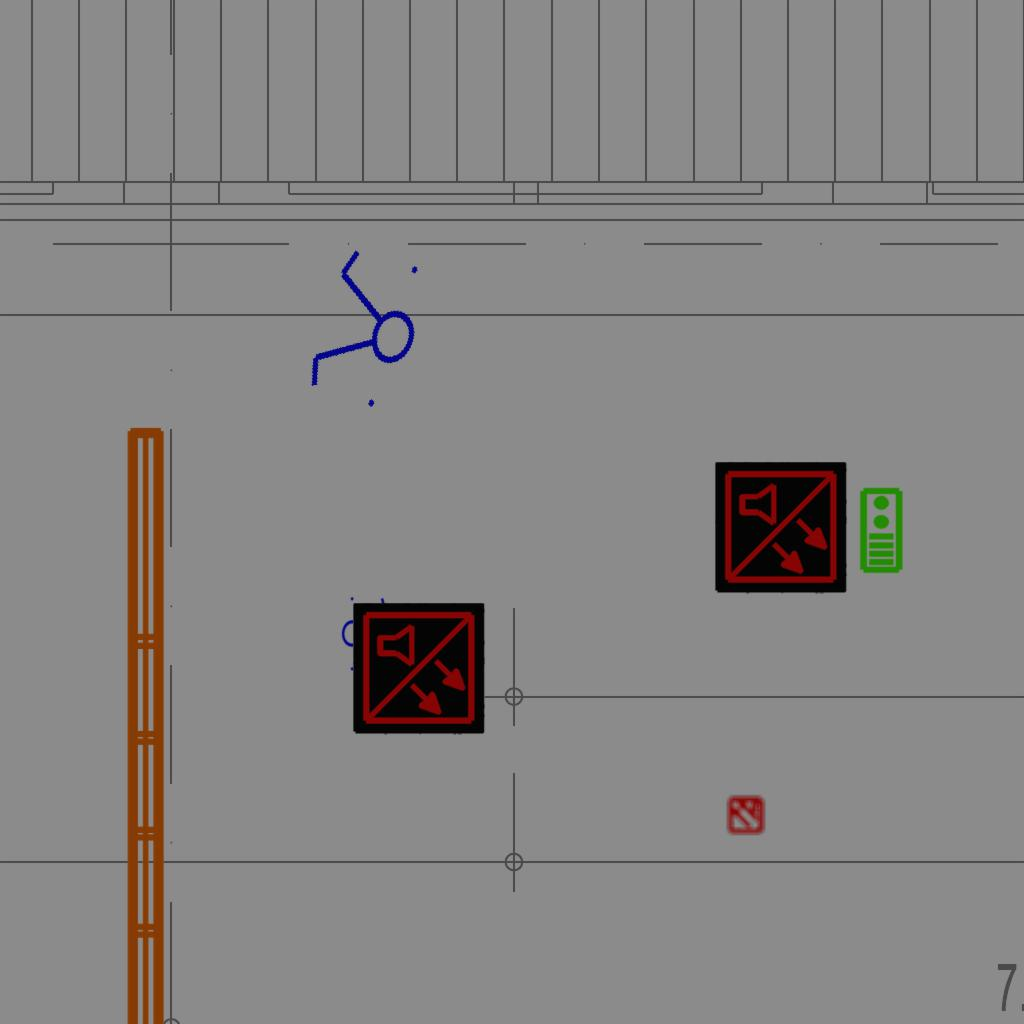Ambulanz_Pendelleuchte_LED: (115, 417, 227, 1024)
Gegensprechanlage_mit_Video: (857, 486, 904, 574)
OKW_Multisensormelder_(Kombination_optischer_Rauch-Kahlenmonoxid_Waerme-Melder): (715, 462, 847, 594), (353, 603, 485, 735)
OT_Multisensormelder_(Kombination_RMO_WMD): (718, 786, 774, 842)
Serienschalter: (296, 235, 440, 425), (341, 591, 389, 675)
